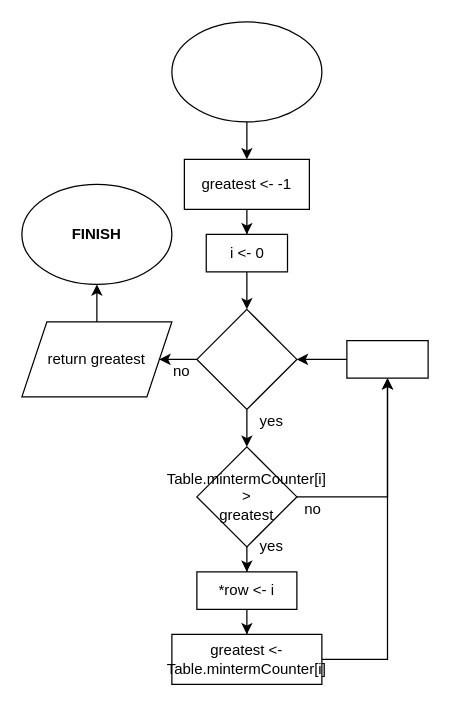
The diagram is 450 pixels wide and 706 high, and some of its shapes have lost their labels. The shapes that lost their labels are listed below. From the top down, each one's centre as x and y in pixels, then its label:
(x=246, y=71): START
(x=246, y=358): i <- Table.top
(x=387, y=358): i++
